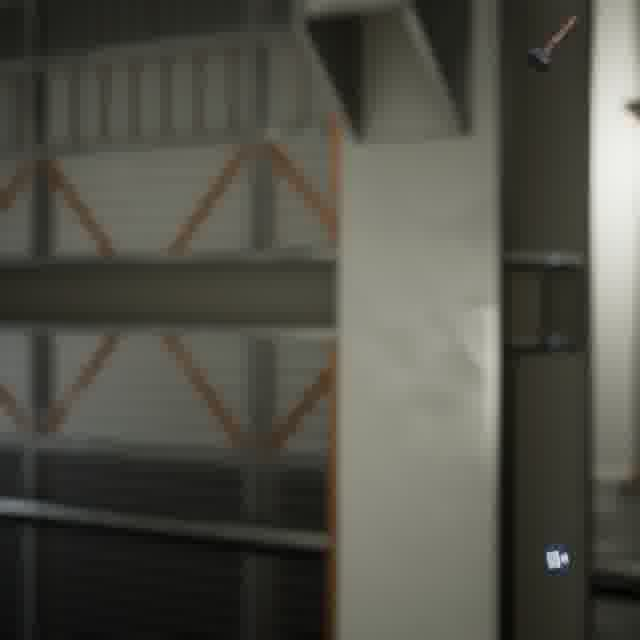bolt: (522, 11, 582, 76)
nut: (541, 537, 575, 579)
